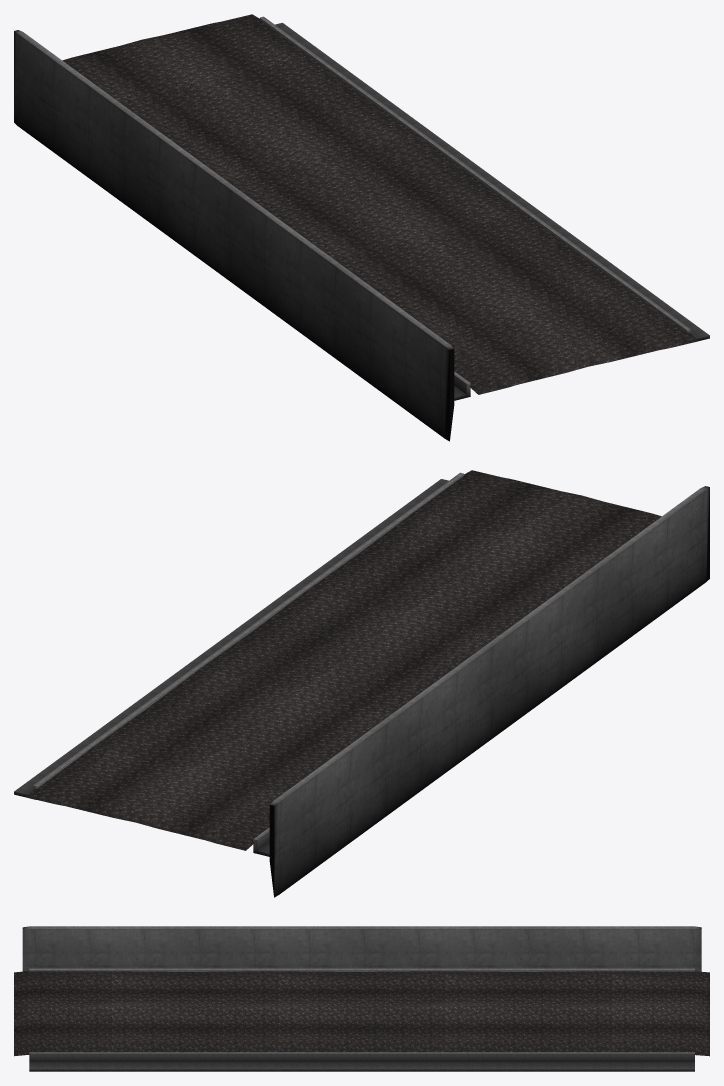
Rendered from AMB_JARI_MEI_R_WALL.glb.
3 views of the same model, one above another, from view 1: azimuth 30°, elevation 25°; view 2: azimuth 150°, elevation 25°; view 3: azimuth 270°, elevation 25° (orthographic). The views are drawn at different scales.
Parts seen in each view (by area): view 1: Mesh1; view 2: Mesh1; view 3: Mesh1.
Boxes of the visible parts, x1=… form: Mesh1: x1=14, y1=14, x2=709, y2=441; Mesh1: x1=14, y1=470, x2=709, y2=897; Mesh1: x1=14, y1=926, x2=709, y2=1071.
Bounding box in the file's own units: 35.82 × 11.93 × 105.
2 materials, 2 textured.
